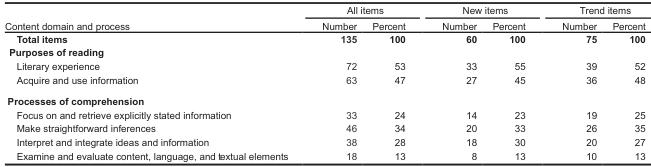table: (3, 4, 644, 161)
table column: (3, 4, 304, 161), (363, 4, 423, 161), (423, 4, 483, 161), (483, 4, 543, 161), (543, 4, 603, 161), (304, 4, 363, 161), (603, 4, 644, 161)
table column header: (3, 4, 644, 31)
table projected row header: (3, 90, 644, 107), (3, 45, 644, 58)
table row: (3, 72, 644, 90), (3, 90, 644, 107), (3, 17, 644, 31), (3, 31, 644, 45), (3, 58, 644, 72), (3, 107, 644, 121), (3, 134, 644, 148), (3, 4, 644, 17), (3, 45, 644, 58), (3, 121, 644, 134), (3, 148, 644, 161)
table spanning cell: (3, 4, 304, 31), (423, 4, 543, 17), (304, 4, 423, 17), (543, 4, 644, 17)
